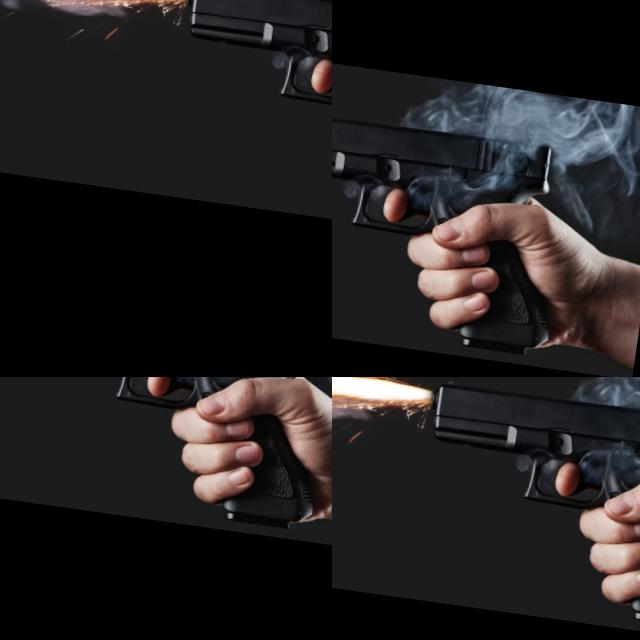handgun: (332, 80, 640, 377), (0, 0, 332, 251), (417, 377, 640, 531), (95, 377, 180, 396)
